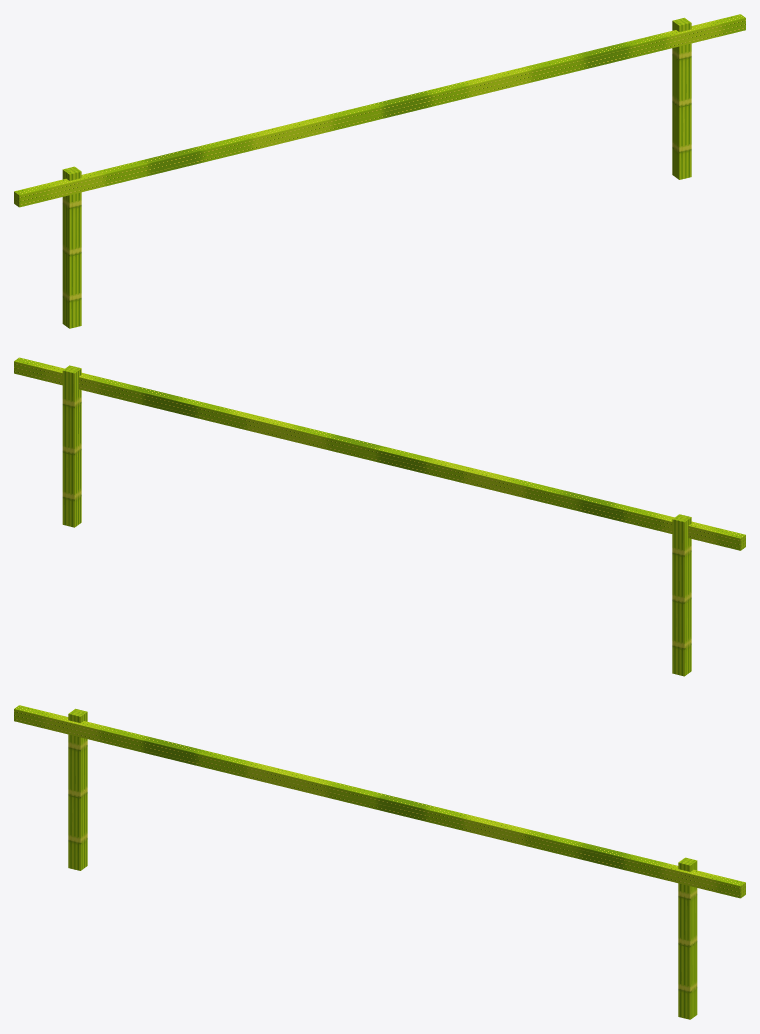
Rendered from gate-25-west-gate-frame-08jJ9pPu.glb.
3 views of the same model, one above another, from view 1: azimuth 30°, elevation 25°; view 2: azimuth 150°, elevation 25°; view 3: azimuth 330°, elevation 25° (orthographic).
Visible parts, largest first — view 1: HI_Gate_25_west-gate_frame; view 2: HI_Gate_25_west-gate_frame; view 3: HI_Gate_25_west-gate_frame.
Boxes of the visible parts, <box> form: HI_Gate_25_west-gate_frame: <box>14,14,745,328</box>; HI_Gate_25_west-gate_frame: <box>14,357,745,676</box>; HI_Gate_25_west-gate_frame: <box>14,705,745,1019</box>.
Size of the model in its own units: 14.3 by 2.9 by 0.31.
1 material, 1 textured.
